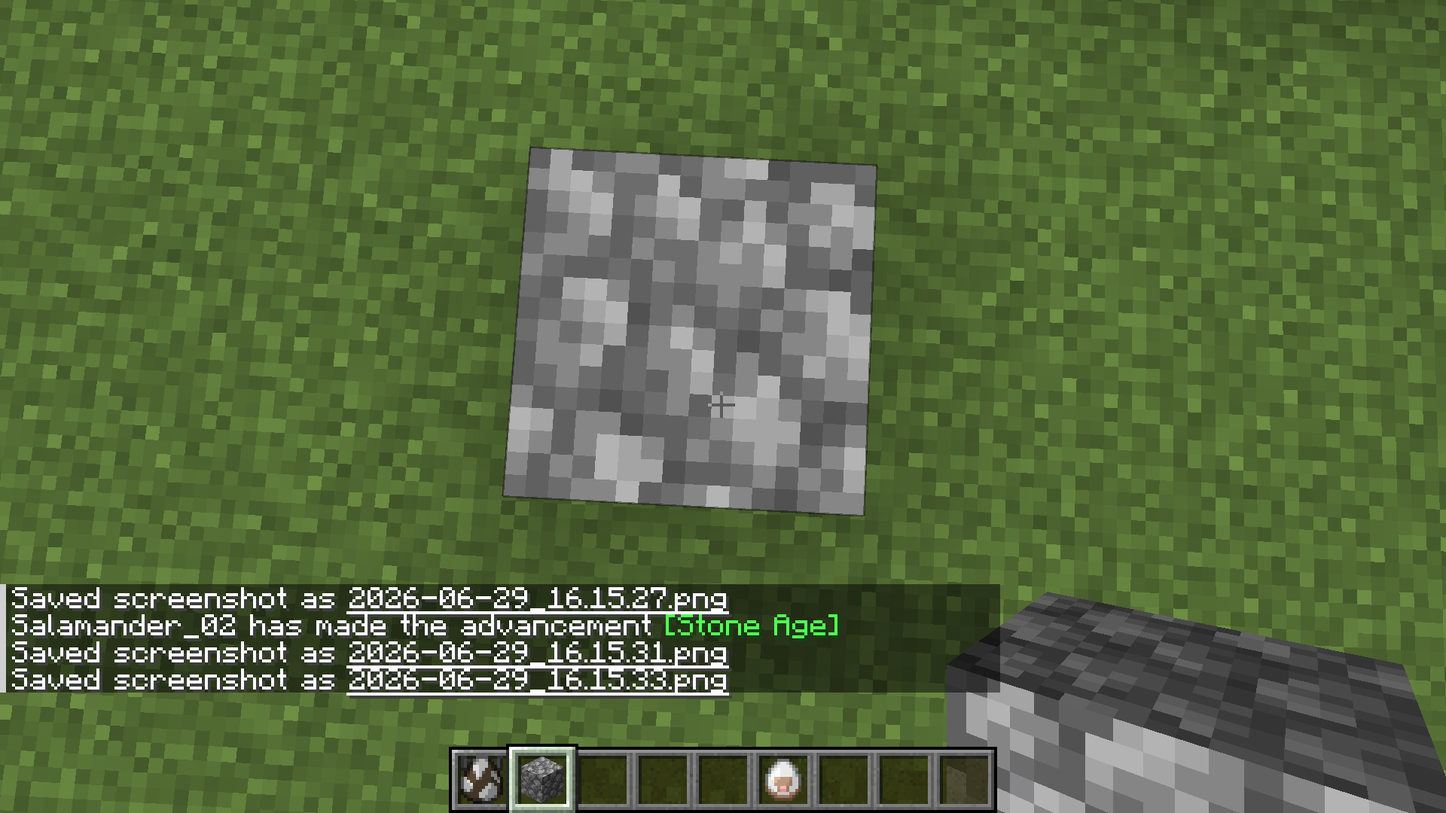cablestone: (507, 154, 877, 515)
